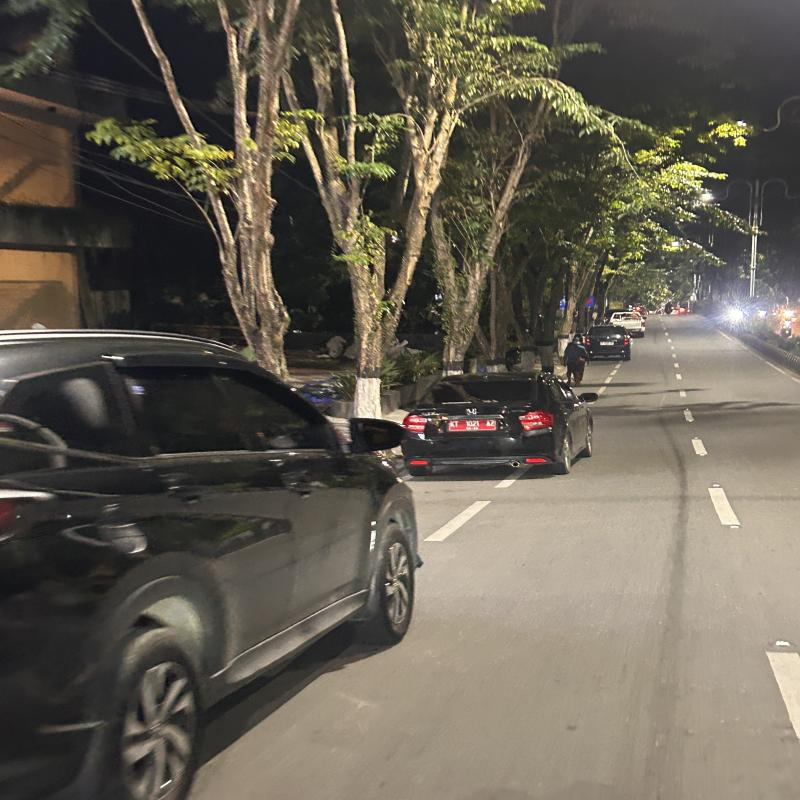license plate on a car: (445, 416, 502, 433), (600, 341, 614, 346)
